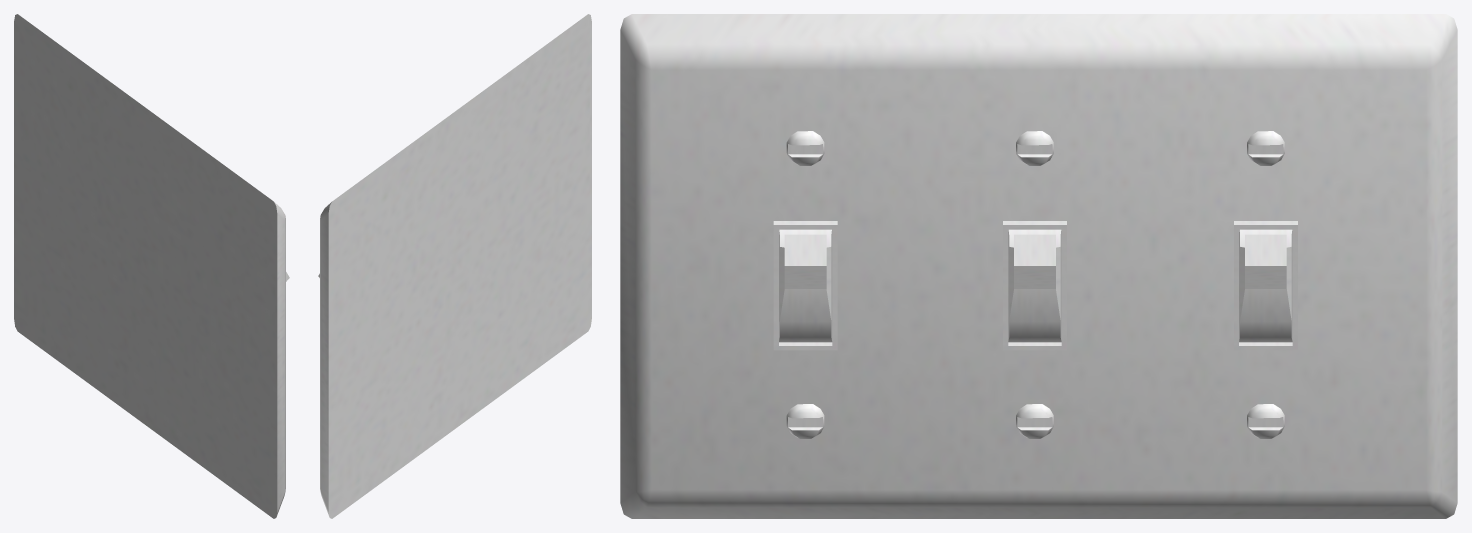
Rendered from Switch White Tri.fbx.
3 views of the same model, side by side, from view 1: azimuth 30°, elevation 25°; view 2: azimuth 150°, elevation 25°; view 3: azimuth 270°, elevation 25° (orthographic). The views are drawn at different scales.
Visible parts, largest first — view 1: Switch White Tri; view 2: Switch White Tri; view 3: Switch White Tri.
Part boxes in pixels (box(x1,y1,x2,y2)): Switch White Tri: box(14, 14, 289, 518); Switch White Tri: box(318, 14, 591, 518); Switch White Tri: box(620, 14, 1457, 518).
Bounding box in the file's own units: 3.37 × 15.93 × 23.94.
